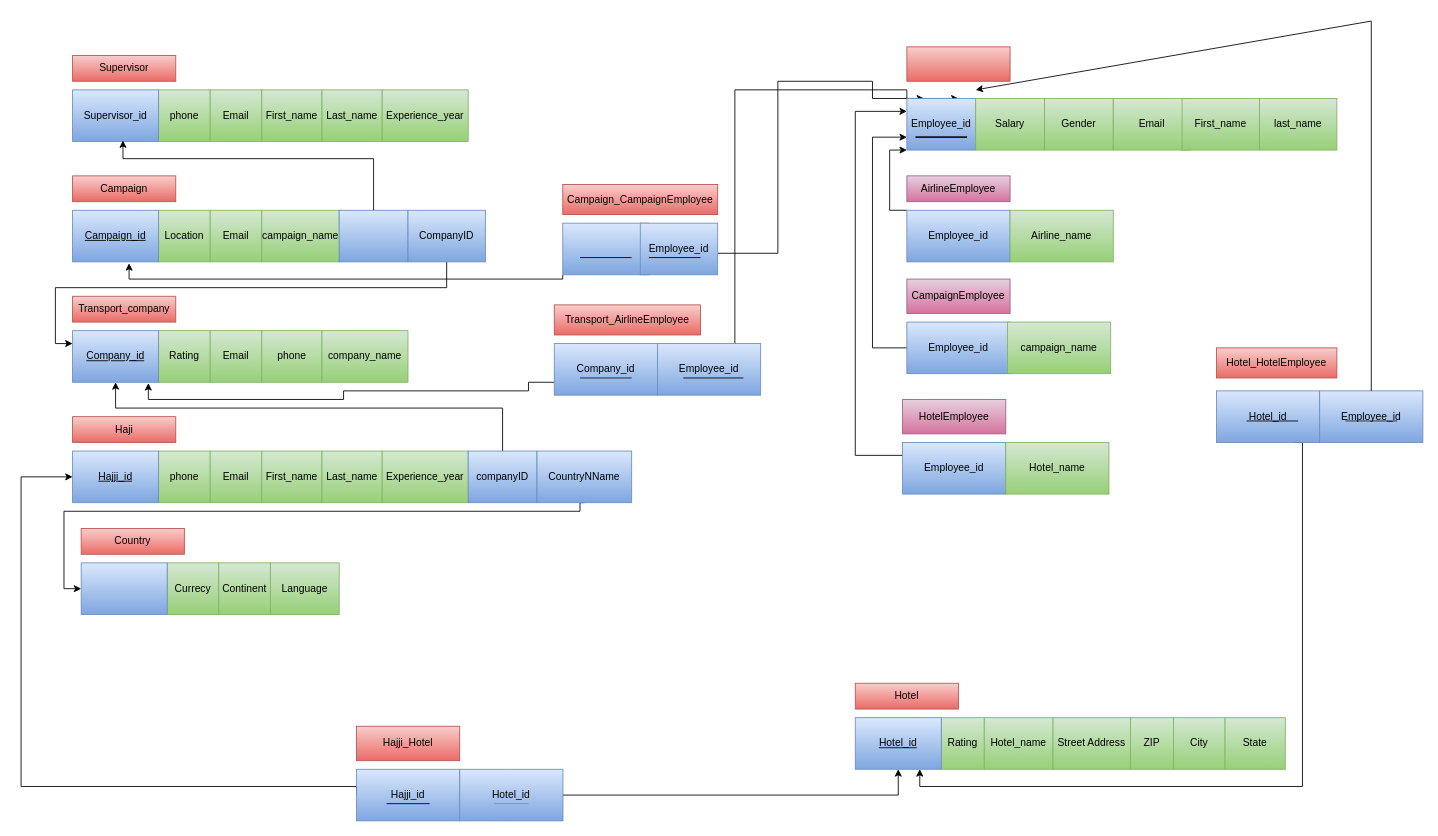
This 1438x836 diagram has some shape labels left out. Here are the shapes that lost their labels. From the top down, the box of each, then its label:
(906, 46, 1010, 81): Employee
(338, 209, 408, 262): SupervisorID
(562, 222, 649, 275): Campaigm_id
(80, 562, 167, 614): Country_name
